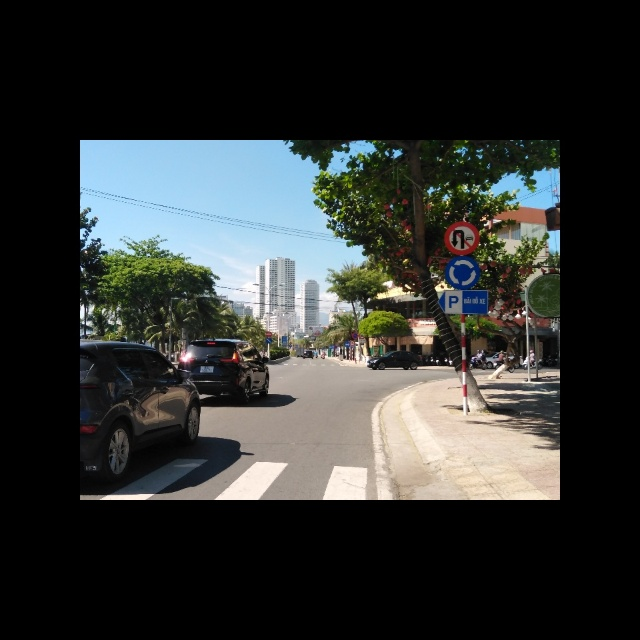Cấm xe ô tô quay đầu: (444, 221, 480, 256)
Nơi giao nhau chạy theo vòng xuyến: (445, 256, 480, 289)
Nơi đỗ xe: (436, 290, 489, 315)
